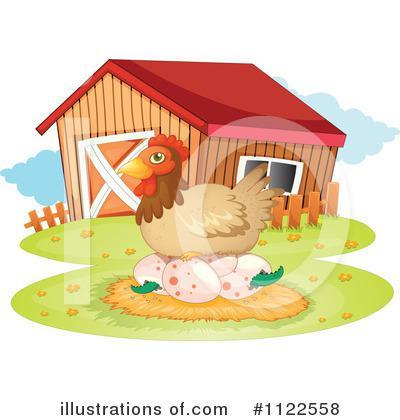bird: (112, 132, 275, 262)
